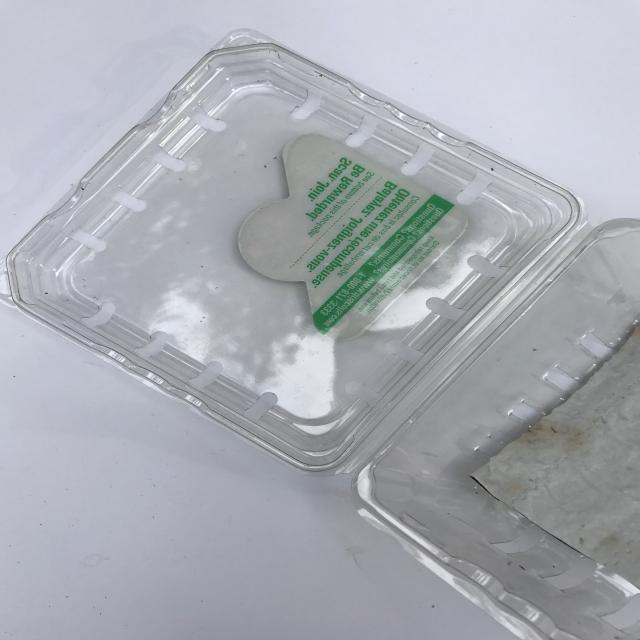plastic: (2, 27, 640, 639)
